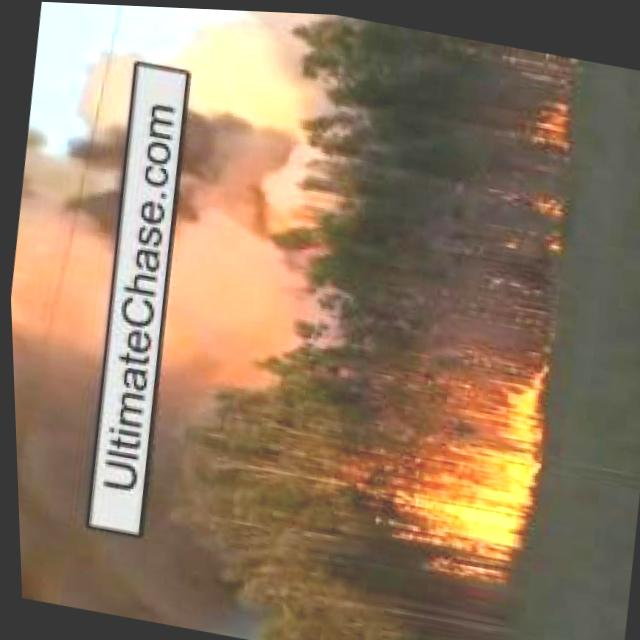Fire: (406, 352, 546, 555), (526, 189, 566, 251), (531, 93, 569, 143)
Smoke: (114, 28, 434, 640), (1, 30, 152, 611)
